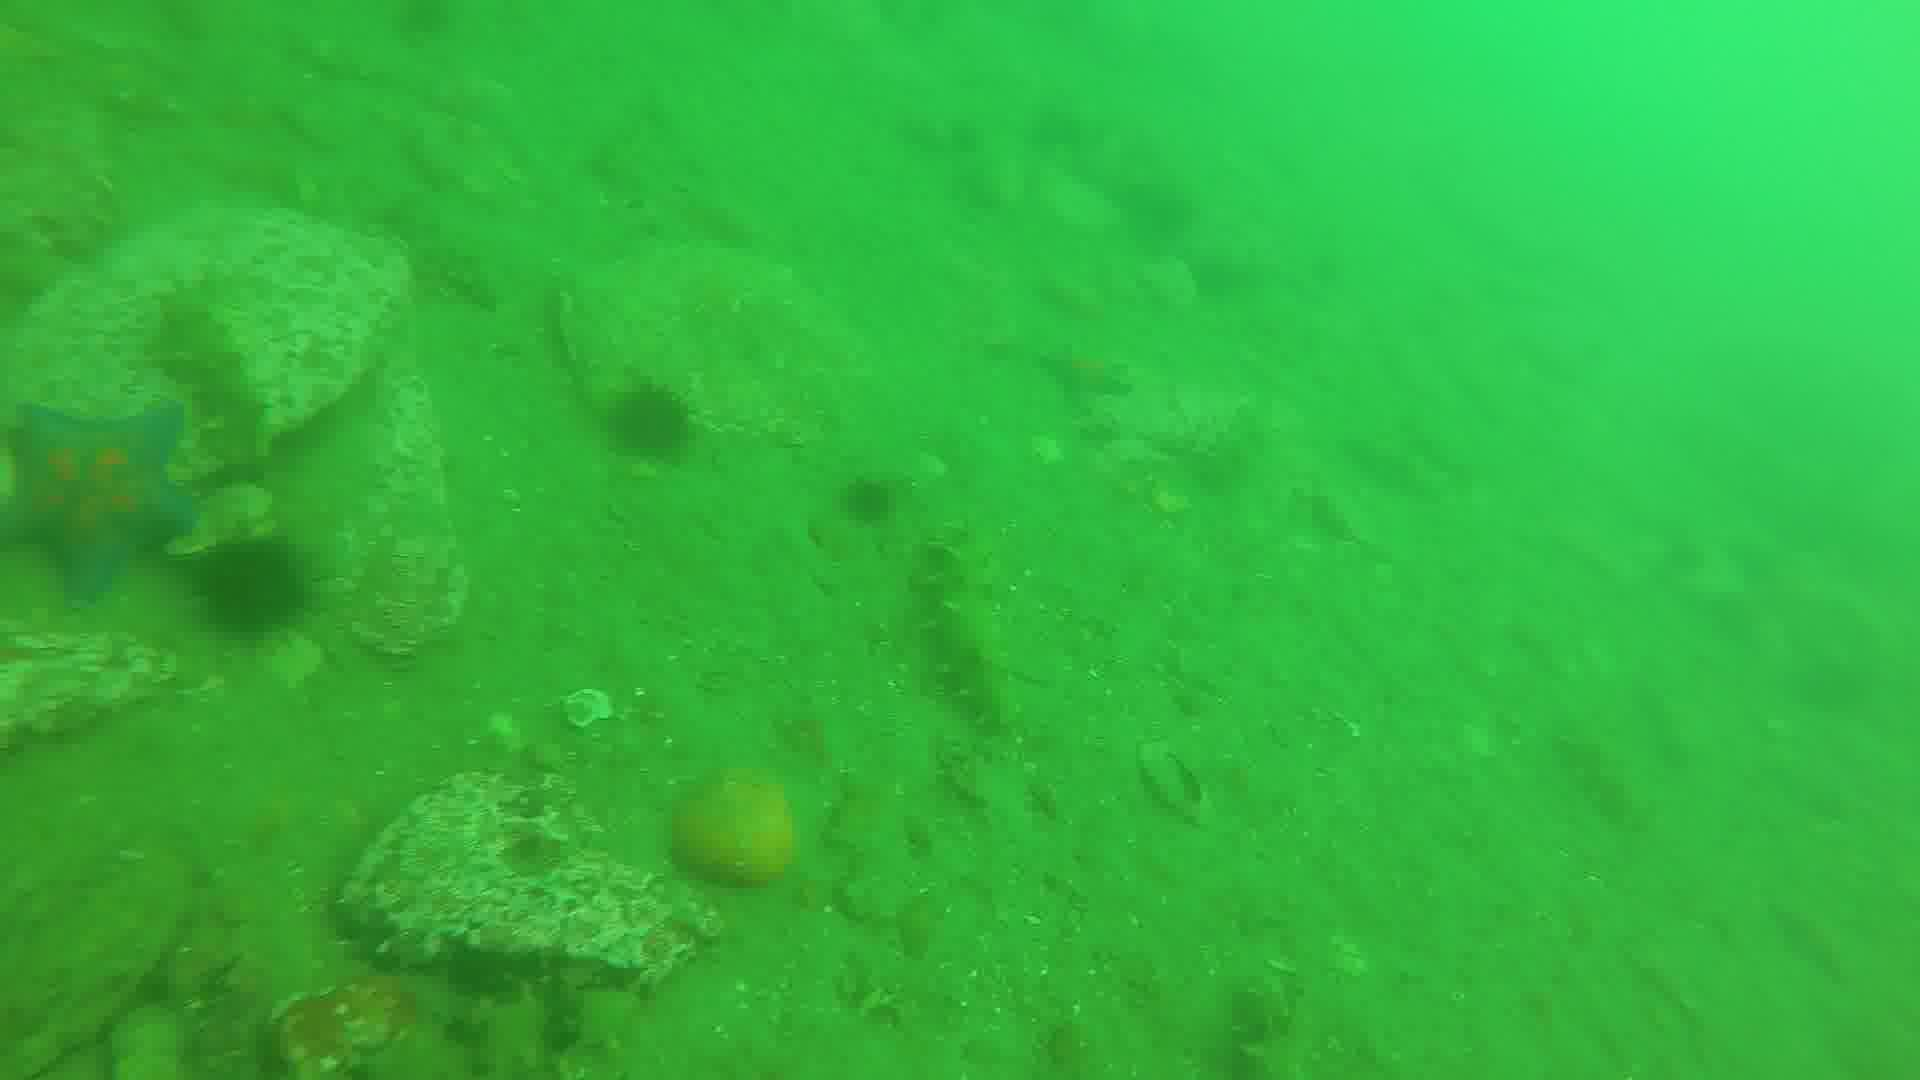echinus: (183, 530, 320, 632), (612, 373, 705, 462), (439, 943, 524, 1004), (831, 472, 906, 530)
holothurian: (919, 505, 1025, 731), (152, 298, 276, 473), (393, 196, 500, 313), (1236, 971, 1320, 1080), (1577, 723, 1646, 831)
starfish: (4, 402, 204, 609)
